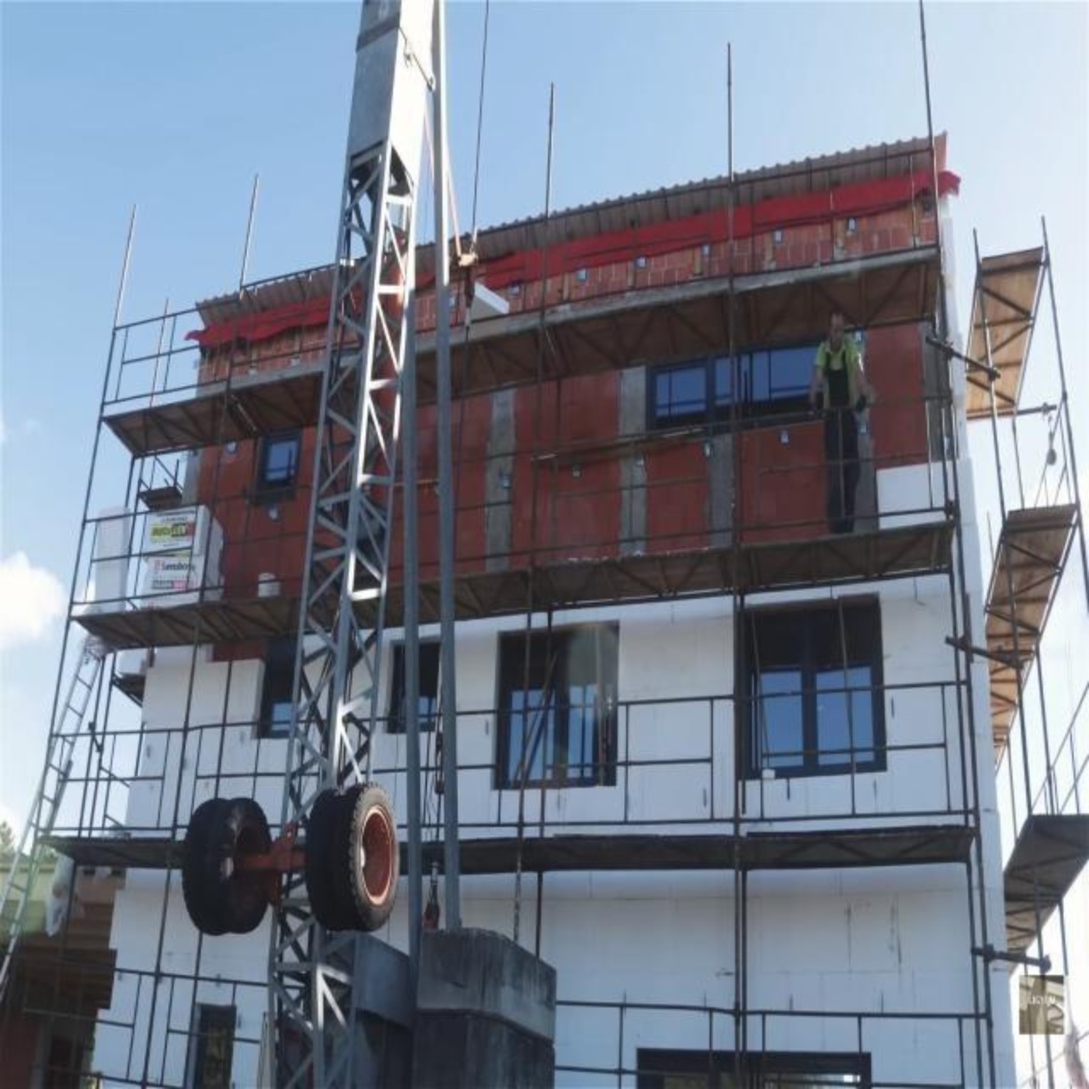no_helmet: (829, 310, 846, 351)
no_vest: (814, 328, 860, 420)
person: (801, 304, 874, 540)
